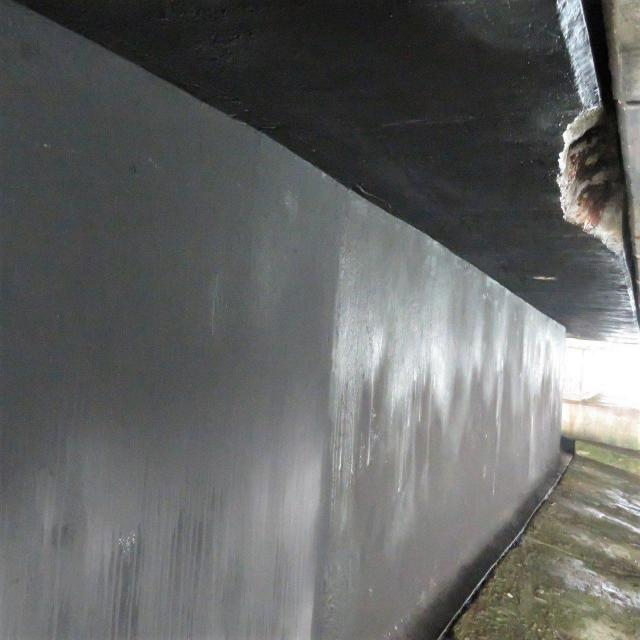Rebar: (554, 104, 624, 254)
